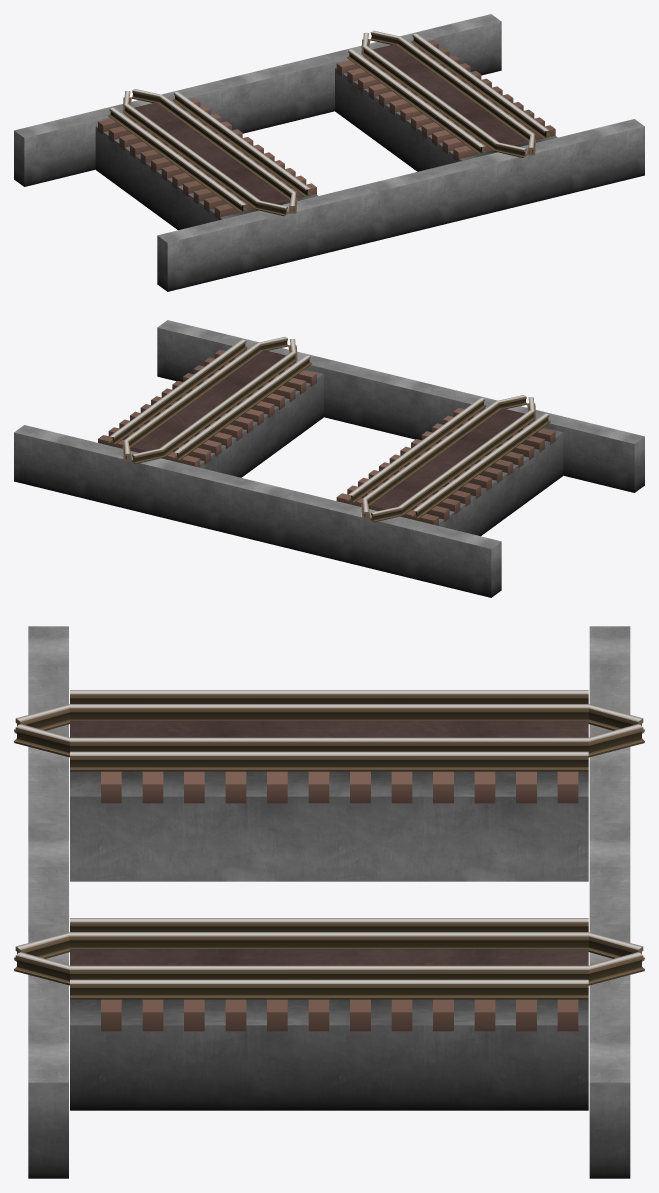
The model's file is MEI_2RAIL_BRIDGE12_5_NOBANISTER.glb.
3 views of the same model, one above another, from view 1: azimuth 30°, elevation 25°; view 2: azimuth 150°, elevation 25°; view 3: azimuth 270°, elevation 25° (orthographic). The views are drawn at different scales.
Visible parts, largest first — view 1: obj16, b_obj, f_obj, obj12, bone0, obj5, obj6; view 2: f_obj, obj16, b_obj, bone0, obj12, obj6, obj5; view 3: obj16, f_obj, b_obj, obj5, bone0, obj12, obj6.
Boxes of the visible parts, x1=… form: obj16: x1=95, y1=33, x2=557, y2=230; b_obj: x1=157, y1=119, x2=644, y2=291; f_obj: x1=14, y1=14, x2=501, y2=186; obj12: x1=193, y1=109, x2=555, y2=219; bone0: x1=98, y1=40, x2=460, y2=150; obj5: x1=161, y1=86, x2=523, y2=196; obj6: x1=130, y1=63, x2=491, y2=173; f_obj: x1=14, y1=425, x2=501, y2=597; obj16: x1=108, y1=339, x2=563, y2=536; b_obj: x1=157, y1=320, x2=644, y2=492; bone0: x1=98, y1=419, x2=460, y2=525; obj12: x1=193, y1=349, x2=555, y2=460; obj6: x1=130, y1=396, x2=491, y2=506; obj5: x1=161, y1=373, x2=523, y2=483; obj16: x1=70, y1=690, x2=588, y2=1110; f_obj: x1=589, y1=626, x2=644, y2=1178; b_obj: x1=14, y1=626, x2=69, y2=1178; obj5: x1=225, y1=771, x2=329, y2=1031; bone0: x1=474, y1=771, x2=578, y2=1031; obj12: x1=101, y1=771, x2=204, y2=1031; obj6: x1=350, y1=771, x2=453, y2=1031.
Bounding box in the file's own units: 26 × 3.02 × 15.2.
13 materials, 10 textured.
